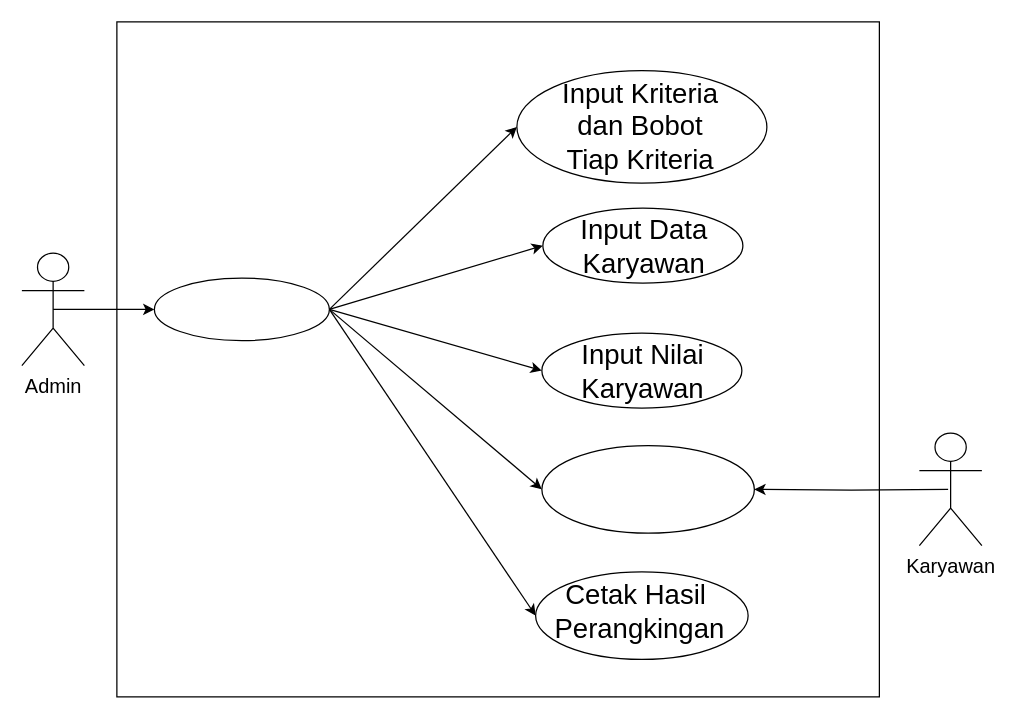
This 1016x719 diagram has some shape labels left out. Here are the shapes that lost their labels. From the top down, the box of each, then its label:
(153, 277, 329, 341): Login
(541, 444, 754, 533): Lihat Hasil Perangkingan
